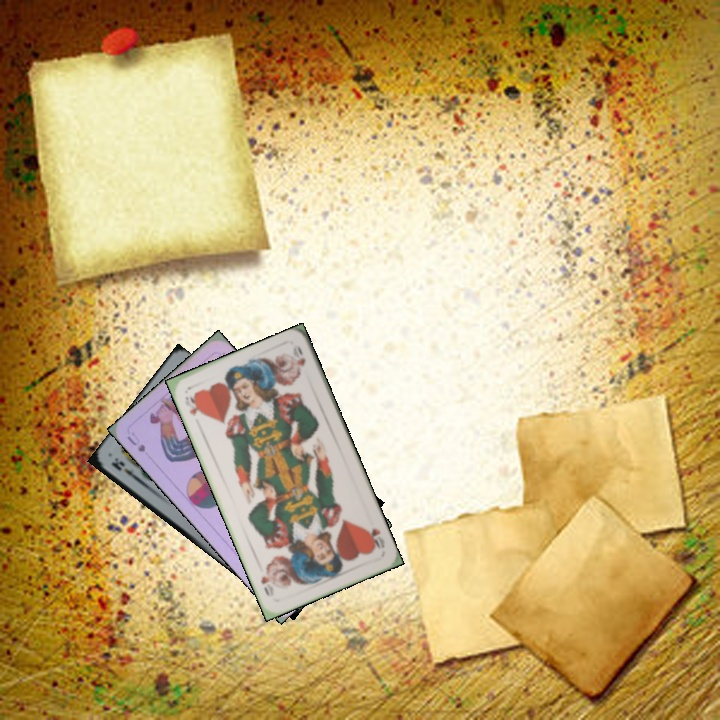EK: (107, 454, 143, 484)
HO: (363, 525, 387, 551), (181, 392, 204, 418)
SU: (123, 428, 148, 454)
